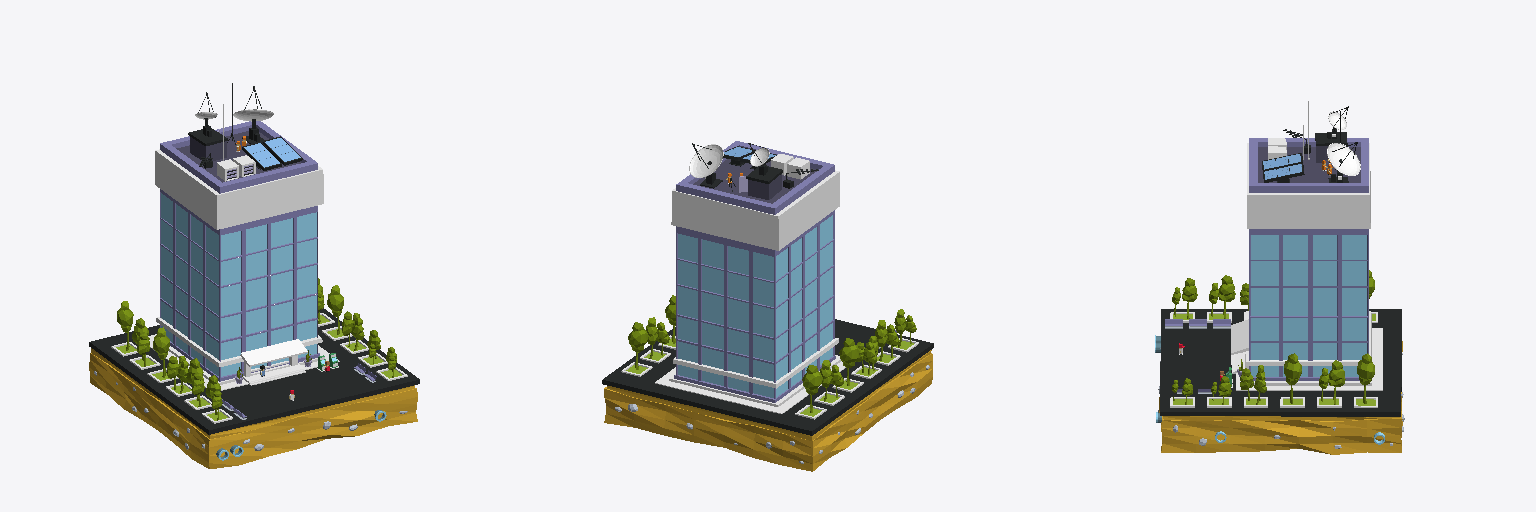
File: Block_5_Office.obj
The picture shows the model from 3 angles: view 1: azimuth 30°, elevation 25°; view 2: azimuth 150°, elevation 25°; view 3: azimuth 270°, elevation 25°; orthographic projection.
Parts seen in each view (by area): view 1: Building, Asplalt, Ground_2, Cube_2_4, Sand_2, Cube_5_6, Cube_9_2, solar_0, solar_0_1, Stairs, Cube_4_9; view 2: Building, Ground_2, Asplalt, Cube_2_4, Sand_2, Cube_12, Cube_9_2, Sphere, Cube_10_2, Cube_1_12, Cube_4_9; view 3: Building, Asplalt, Ground_2, Cube_2_4, Cube_12, Sand_2, Sphere, Cube_9_2, Cube_5_6, solar_0_1.
Boxes of the visible parts, x1,y1,x2,y2 form: Building: [160, 121, 317, 377]; Asplalt: [89, 308, 419, 434]; Ground_2: [89, 353, 417, 468]; Cube_2_4: [155, 149, 323, 229]; Sand_2: [91, 348, 414, 438]; Cube_5_6: [240, 339, 307, 366]; Cube_9_2: [156, 317, 322, 366]; solar_0: [242, 142, 281, 170]; solar_0_1: [263, 136, 302, 165]; Stairs: [243, 364, 305, 385]; Cube_4_9: [190, 137, 226, 160]; Building: [676, 141, 834, 398]; Ground_2: [604, 353, 932, 471]; Asplalt: [602, 319, 933, 435]; Cube_2_4: [671, 170, 839, 250]; Sand_2: [607, 350, 931, 440]; Cube_12: [655, 355, 845, 413]; Cube_9_2: [673, 338, 838, 388]; Sphere: [689, 144, 723, 177]; Cube_10_2: [674, 356, 835, 402]; Cube_1_12: [669, 358, 840, 406]; Cube_4_9: [748, 174, 781, 199]; Building: [1249, 138, 1368, 376]; Asplalt: [1160, 309, 1401, 416]; Ground_2: [1159, 341, 1402, 454]; Cube_2_4: [1247, 143, 1370, 228]; Cube_12: [1236, 328, 1382, 390]; Sand_2: [1163, 416, 1399, 420]; Sphere: [1327, 143, 1360, 175]; Cube_9_2: [1246, 311, 1371, 365]; Cube_5_6: [1231, 319, 1248, 354]; solar_0_1: [1263, 163, 1304, 182].
Bounding box in the file's own units: 1213 × 1588 × 1210.